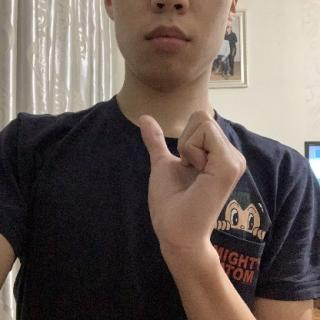WAW: (134, 101, 252, 265)
